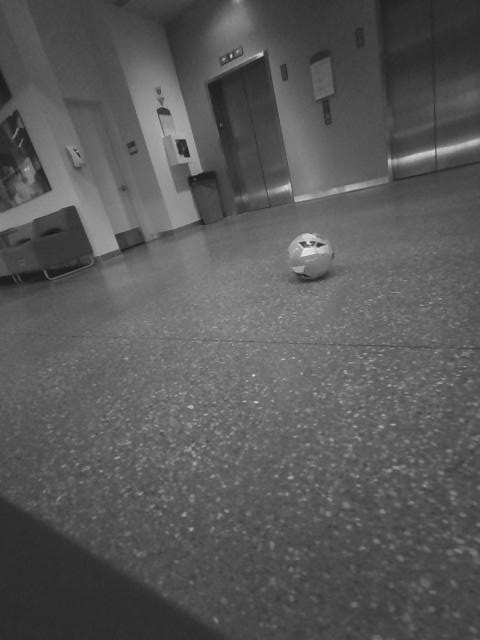ball: (281, 228, 342, 284)
